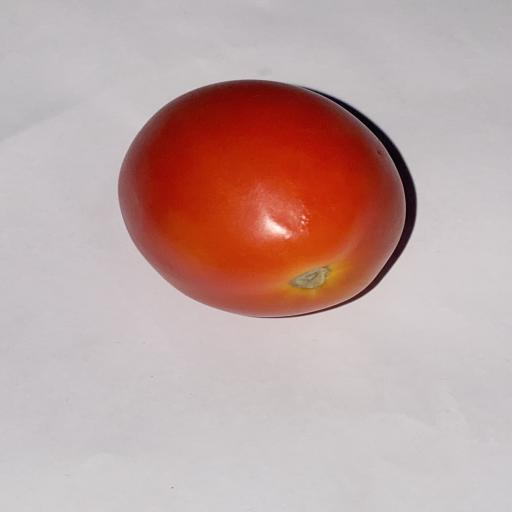ripe: (119, 80, 406, 317)
